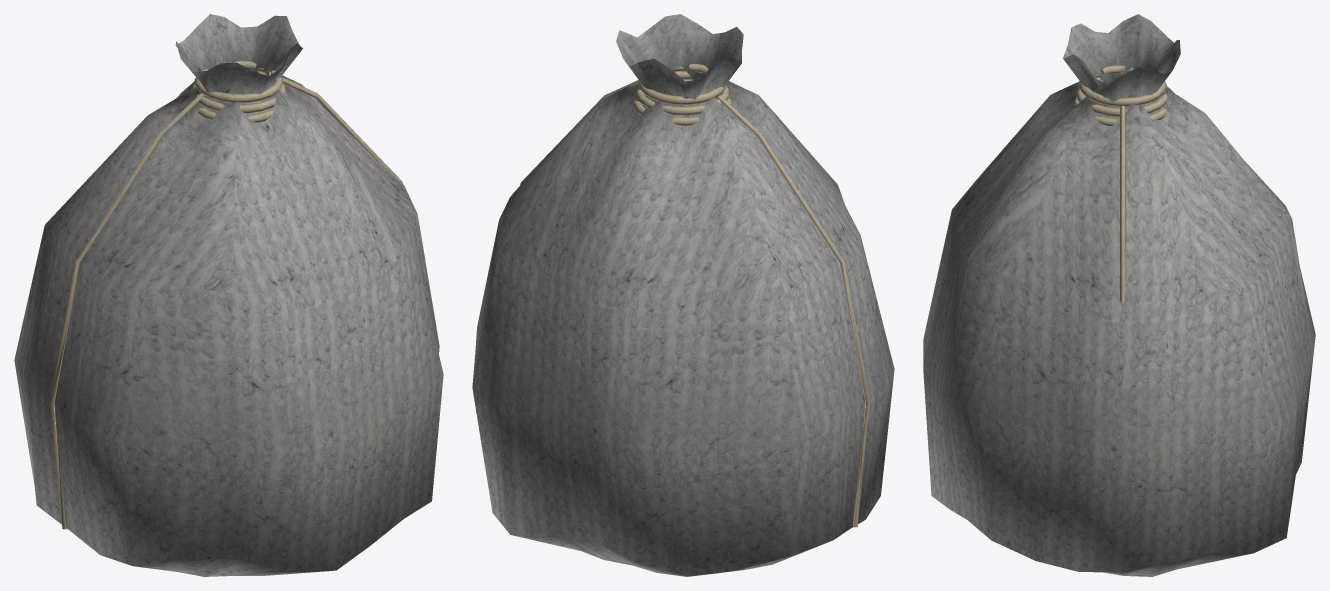
File: Sack.gltf
The picture shows the model from 3 angles, left to right: view 1: azimuth 30°, elevation 25°; view 2: azimuth 150°, elevation 25°; view 3: azimuth 270°, elevation 25°; orthographic projection.
Parts seen in each view (by area): view 1: Sack; view 2: Sack; view 3: Sack.
Part boxes in pixels (x1,y1,x2,y2): Sack: (14, 14, 443, 576); Sack: (472, 14, 894, 576); Sack: (923, 14, 1315, 576).
Size of the model in its own units: 0.5962 by 0.734 by 0.5367.
Materials: 2 (2 with a texture image).
